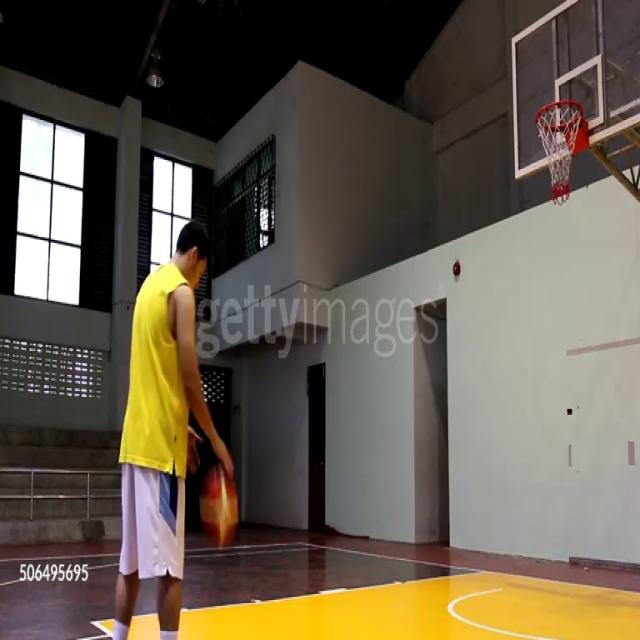ball: (198, 466, 241, 550)
